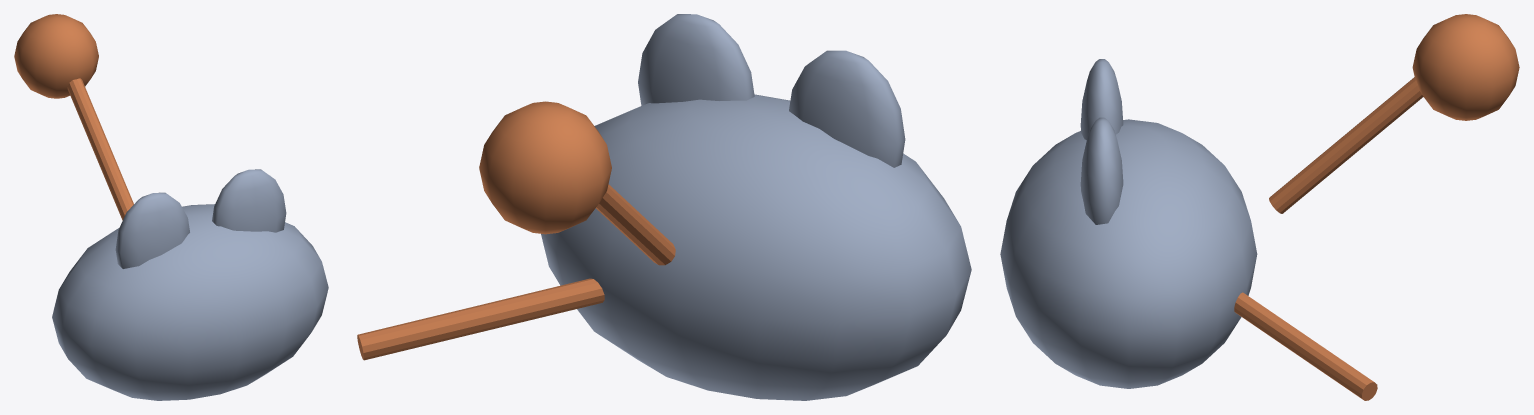
File: pet_toy_cat.glb
The picture shows the model from 3 angles, left to right: view 1: azimuth 30°, elevation 25°; view 2: azimuth 150°, elevation 25°; view 3: azimuth 270°, elevation 25°; orthographic projection. The views are drawn at different scales.
Visible parts, largest first — view 1: Cat toy body, Cat toy bell, Cat toy ear, Cat toy ear.001, Cat toy cord; view 2: Cat toy body, Cat toy bell, Cat toy ear, Cat toy ear.001, Cat toy tail, Cat toy cord; view 3: Cat toy body, Cat toy bell, Cat toy cord, Cat toy tail, Cat toy ear.001, Cat toy ear.
Boxes of the visible parts, x1,y1,x2,y2 form: Cat toy body: (52,204,328,400); Cat toy bell: (14,14,98,98); Cat toy ear: (115,192,189,268); Cat toy ear.001: (212,169,286,232); Cat toy cord: (67,78,133,220); Cat toy body: (541,94,971,400); Cat toy bell: (479,101,611,234); Cat toy ear: (789,50,905,167); Cat toy ear.001: (638,14,754,105); Cat toy tail: (357,278,604,360); Cat toy cord: (596,184,675,265); Cat toy body: (1000,119,1257,388); Cat toy bell: (1412,14,1519,120); Cat toy cord: (1269,77,1423,213); Cat toy tail: (1234,292,1377,400); Cat toy ear.001: (1080,117,1123,224); Cat toy ear: (1080,59,1123,139).
Bounding box in the file's own units: 0.1577 × 0.142 × 0.194.
